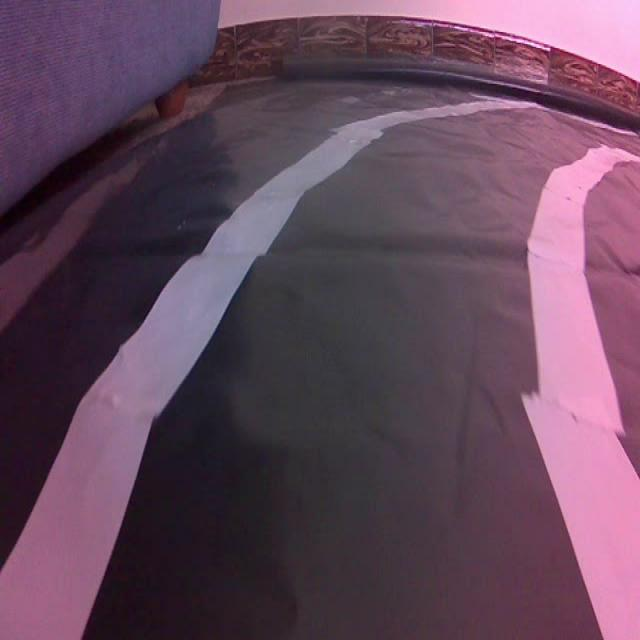LineaCarril: (0, 102, 526, 638), (522, 147, 640, 638)
